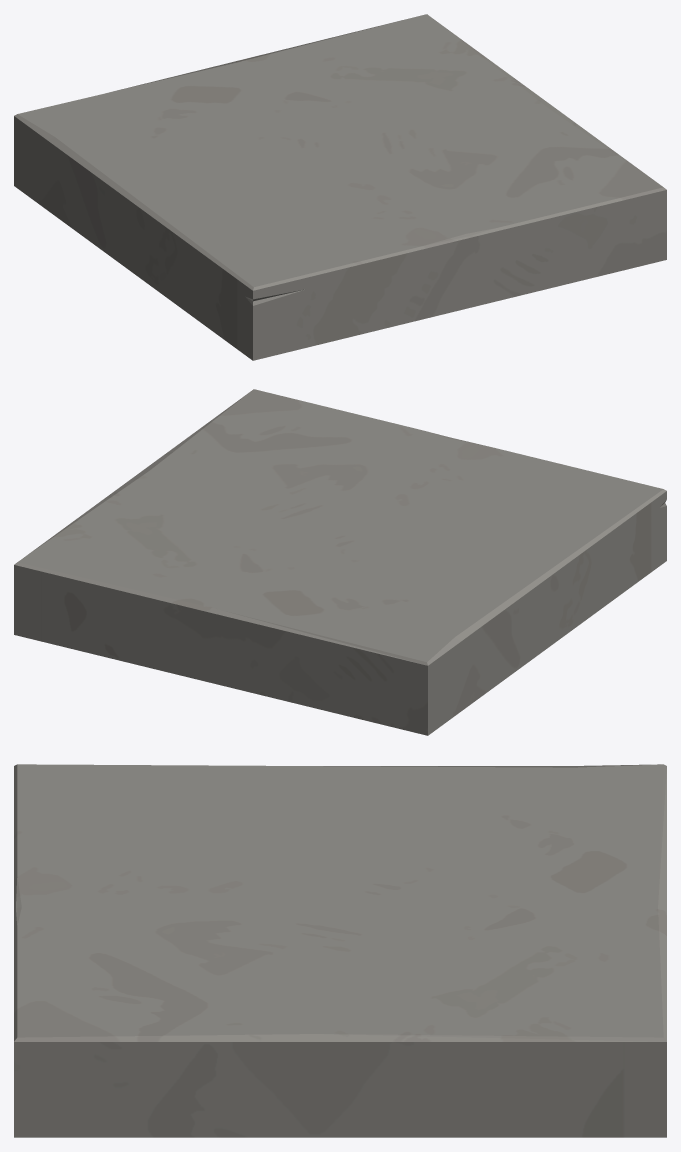
Rendered from model_concrete_block.fbx.
The picture shows the model from 3 angles, top to bottom: view 1: azimuth 30°, elevation 25°; view 2: azimuth 150°, elevation 25°; view 3: azimuth 270°, elevation 25°; orthographic projection. The views are drawn at different scales.
Visible parts, largest first — view 1: model_concrete_block; view 2: model_concrete_block; view 3: model_concrete_block.
Boxes of the visible parts, <box> form: model_concrete_block: <box>14,14,666,360</box>; model_concrete_block: <box>14,389,666,735</box>; model_concrete_block: <box>14,764,666,1137</box>.
Size of the model in its own units: 300 by 50 by 300.
1 material, 1 textured.
